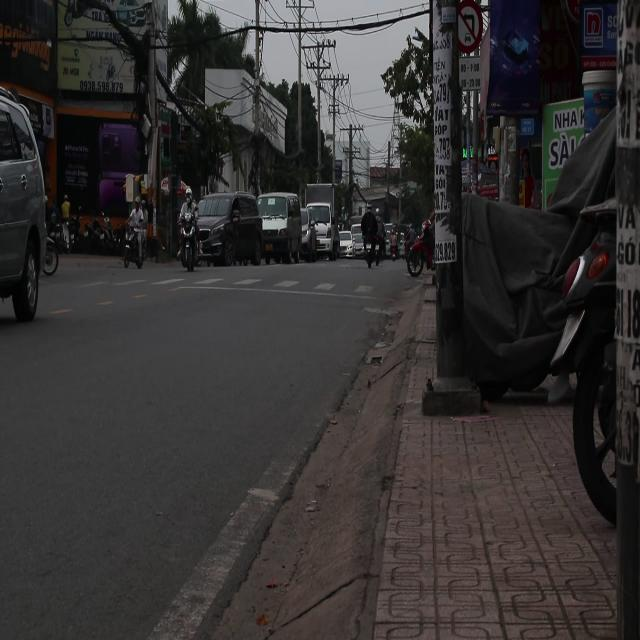car: (0, 78, 51, 329), (194, 192, 264, 269), (299, 191, 335, 263), (338, 229, 354, 258), (348, 228, 364, 257)
motorbike: (178, 216, 200, 280), (124, 225, 148, 275), (407, 229, 432, 275)
truck: (258, 193, 304, 264)
